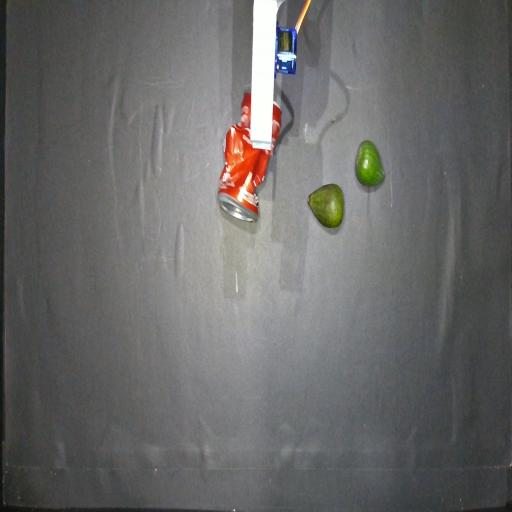higo: (307, 183, 344, 228), (354, 140, 386, 189)
lata_defectuoso: (54, 176, 324, 208), (218, 92, 281, 221)
